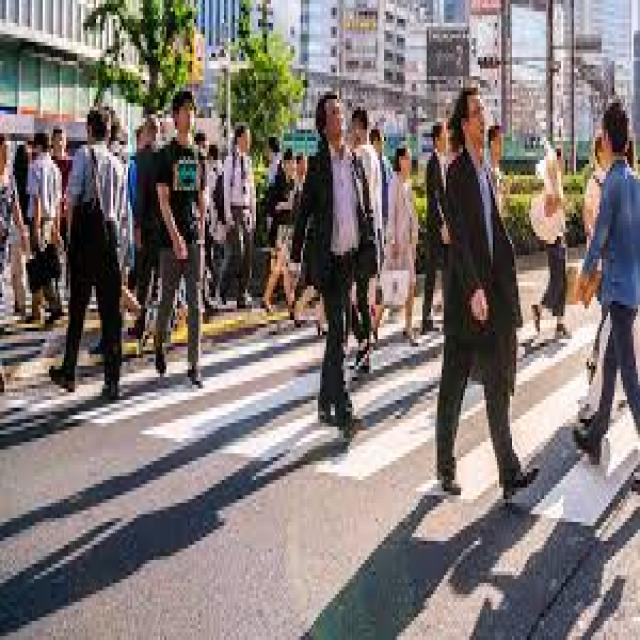Pedestrians: (433, 91, 536, 499), (290, 91, 376, 442), (574, 99, 640, 495), (49, 118, 122, 404), (154, 84, 207, 396)
